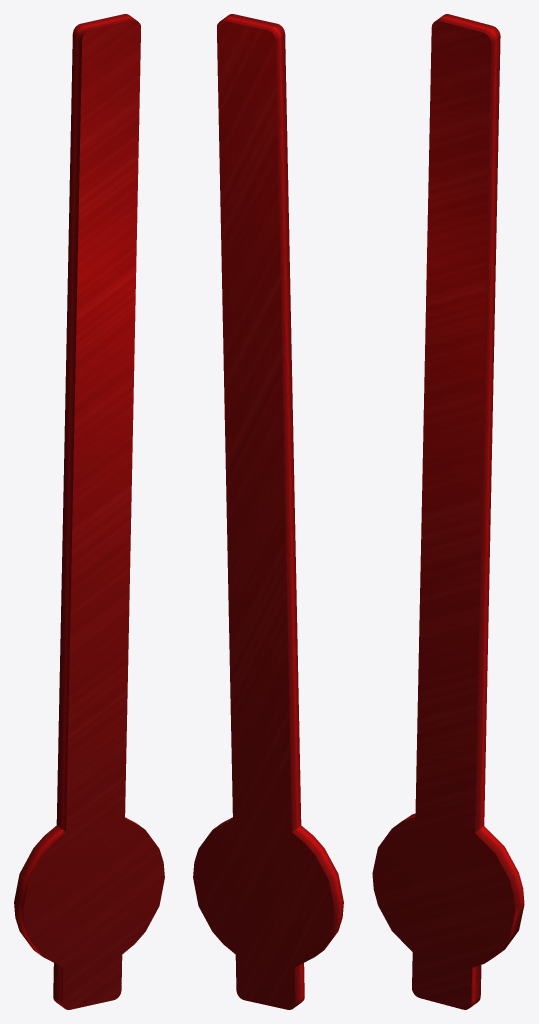
Rendered from minutero.obj.
3 views of the same model, side by side, from view 1: azimuth 30°, elevation 25°; view 2: azimuth 150°, elevation 25°; view 3: azimuth 330°, elevation 25° (orthographic).
Visible parts, largest first — view 1: polySurface1 reloj_azul:Mesh; view 2: polySurface1 reloj_azul:Mesh; view 3: polySurface1 reloj_azul:Mesh.
Boxes of the visible parts, x1,y1,x2,y2 form: polySurface1 reloj_azul:Mesh: [14, 14, 164, 1009]; polySurface1 reloj_azul:Mesh: [193, 14, 343, 1009]; polySurface1 reloj_azul:Mesh: [372, 14, 524, 1009].
Size of the model in its own units: 0.2301 by 1.52 by 0.0263.
1 material, 1 textured.
